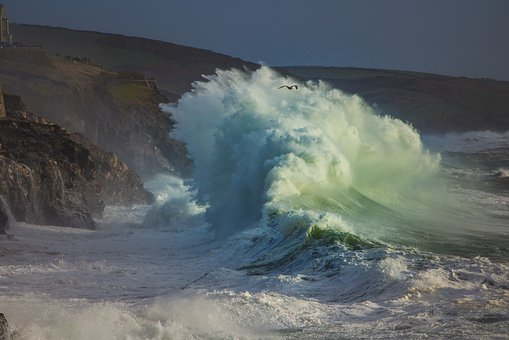sea: (44, 75, 508, 337)
